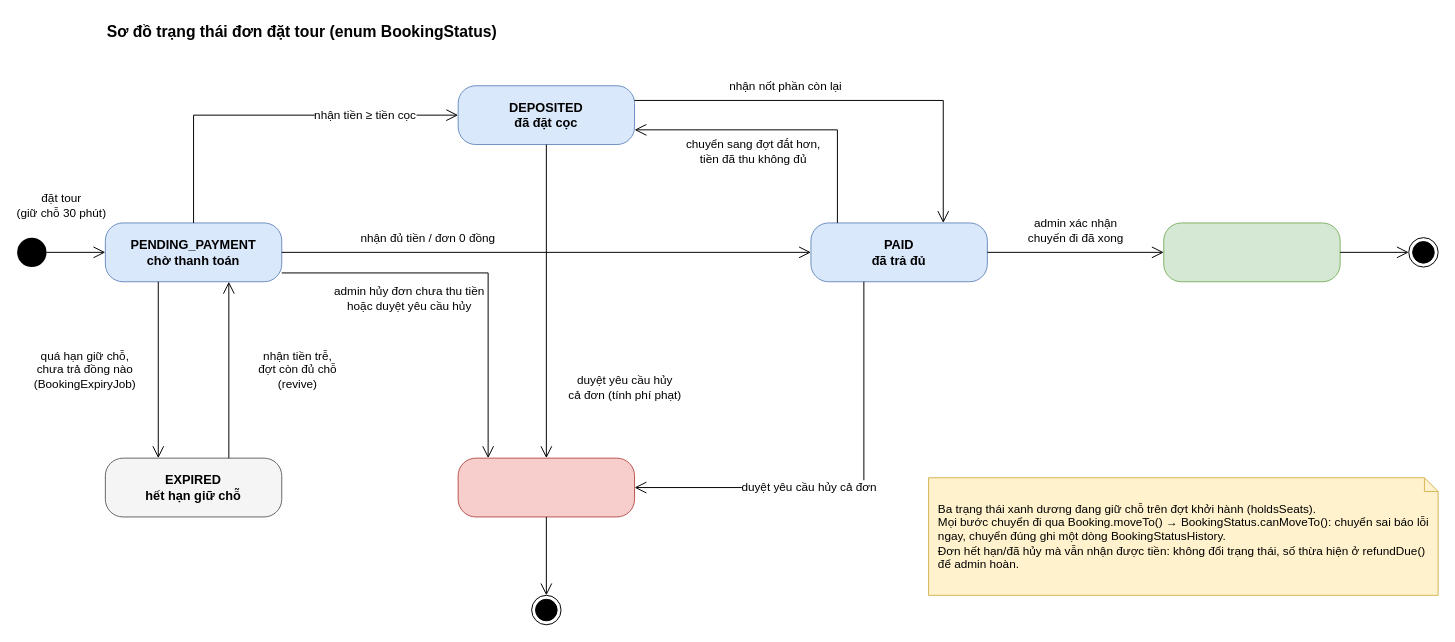
The diagram is 1455 pixels wide and 642 high, and some of its shapes have lost their labels. The centre of each missing label's shape, as x and y in pixels:
CANCELLED đã hủy: (546,487)
COMPLETED đã đi xong: (1251,252)
